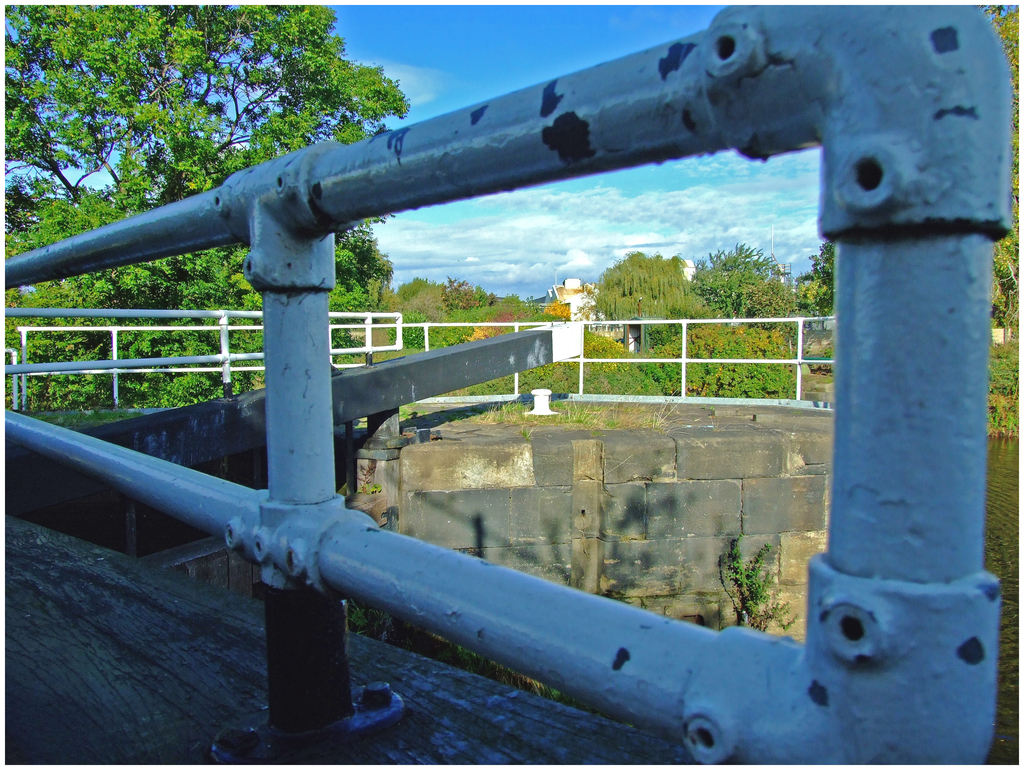Tree: (3, 4, 409, 411), (577, 3, 1018, 351), (397, 277, 500, 308)
